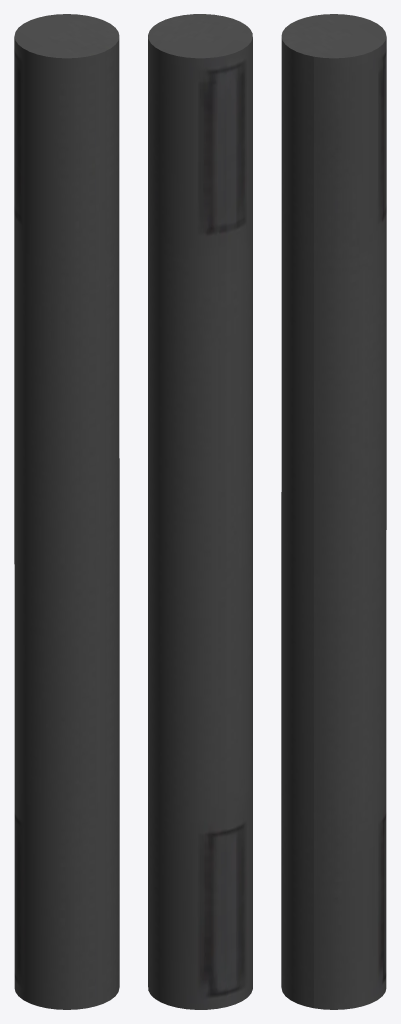
The model's file is frame__rear_cross.glb.
3 views of the same model, side by side, from view 1: azimuth 90°, elevation 25°; view 2: azimuth 210°, elevation 25°; view 3: azimuth 270°, elevation 25° (orthographic).
Visible parts, largest first — view 1: world; view 2: world; view 3: world.
Part boxes in pixels (left/top/right/bottom): world: left=14, top=14, right=119, bottom=1009; world: left=148, top=14, right=252, bottom=1009; world: left=281, top=14, right=386, bottom=1009.
Size of the model in its own units: 0.03 by 0.3 by 0.03.
1 material, 1 textured.
